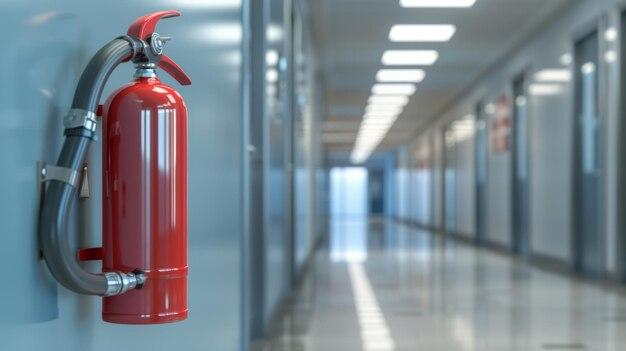wall-mounted: (32, 5, 204, 341)
